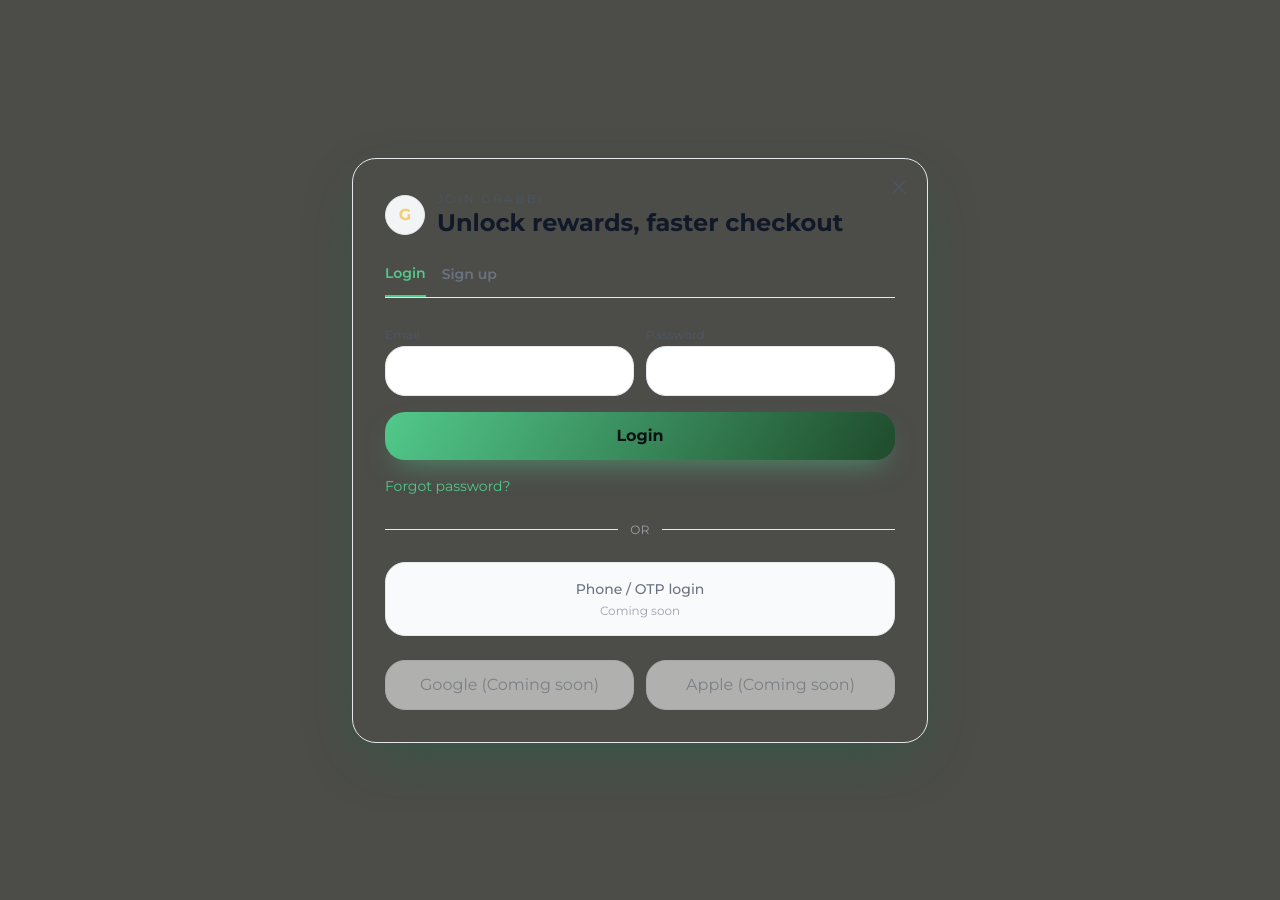
Test: AuthModal › switches to signup form when Sign up tab is clicked
Click the button "Sign up": point(469, 280) [442,262,497,296]
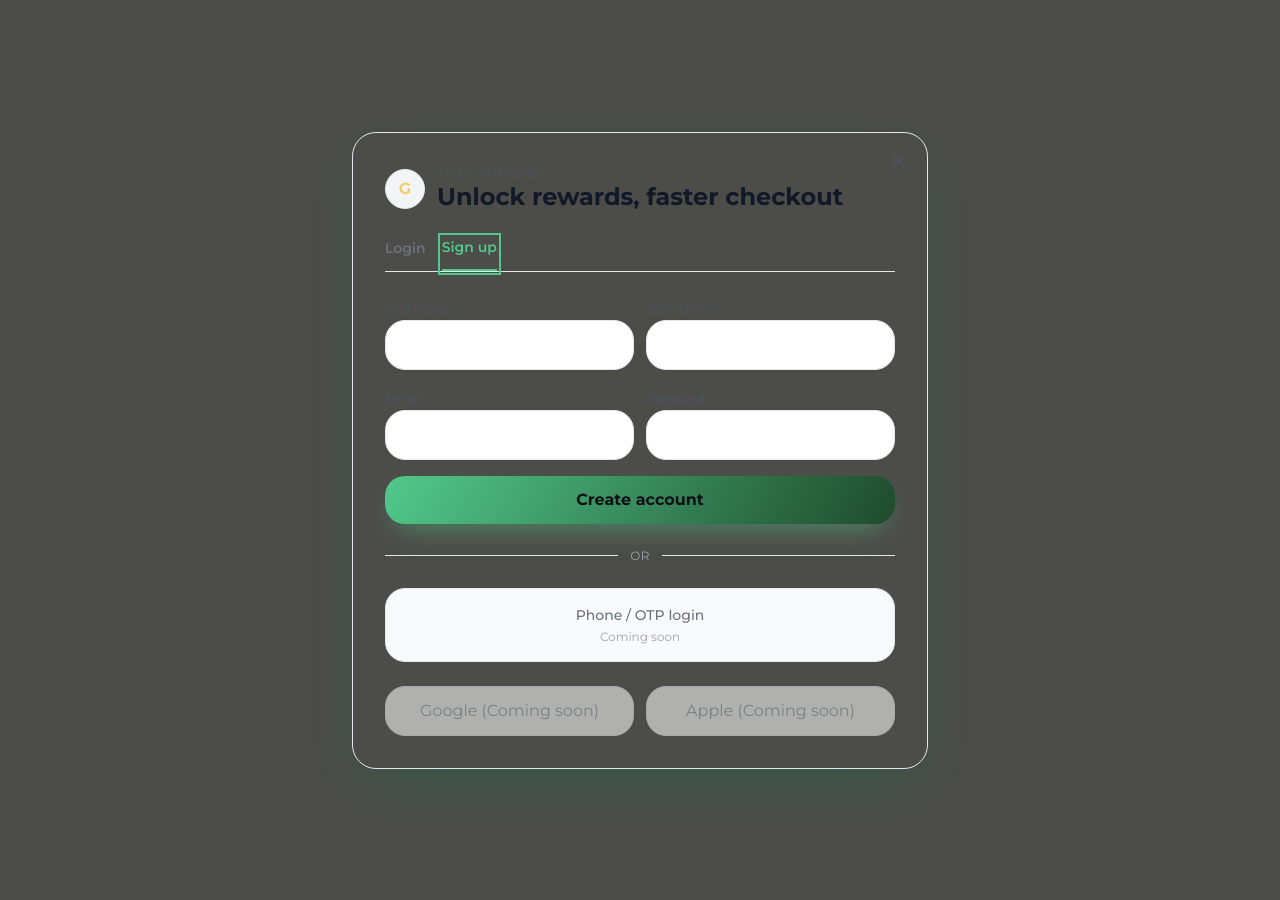
Result: the field labelled "First name *" is shown at [385,320,634,370]
Result: the field labelled "Last name *" is shown at [646,320,895,370]
Result: the button "Create account" is shown at [385,476,895,524]
